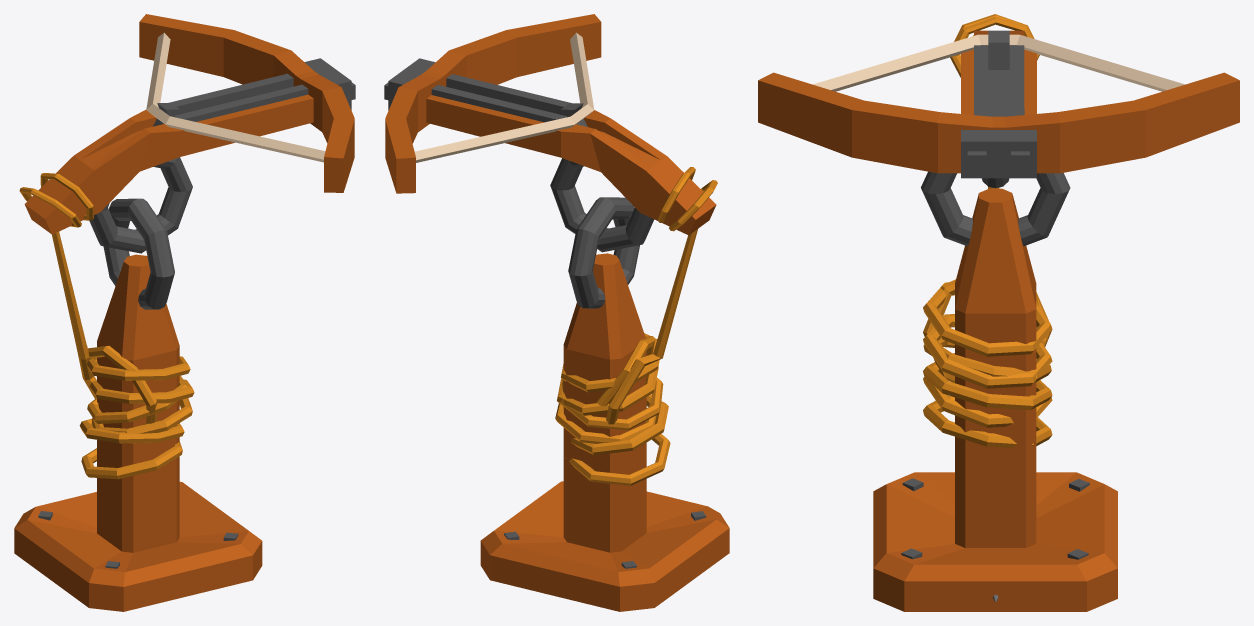
The model's file is obstacle crossbow.fbx.
3 renders of one model, left to right at view 1: azimuth 30°, elevation 25°; view 2: azimuth 150°, elevation 25°; view 3: azimuth 270°, elevation 25°, orthographic. The views are drawn at different scales.
Parts seen in each view (by area): view 1: crossbow; view 2: crossbow; view 3: crossbow.
Part boxes in pixels (x1,y1,x2,y2): crossbow: [14, 14, 355, 611]; crossbow: [384, 14, 729, 611]; crossbow: [758, 14, 1239, 611].
Size of the model in its own units: 219 by 298 by 239.
